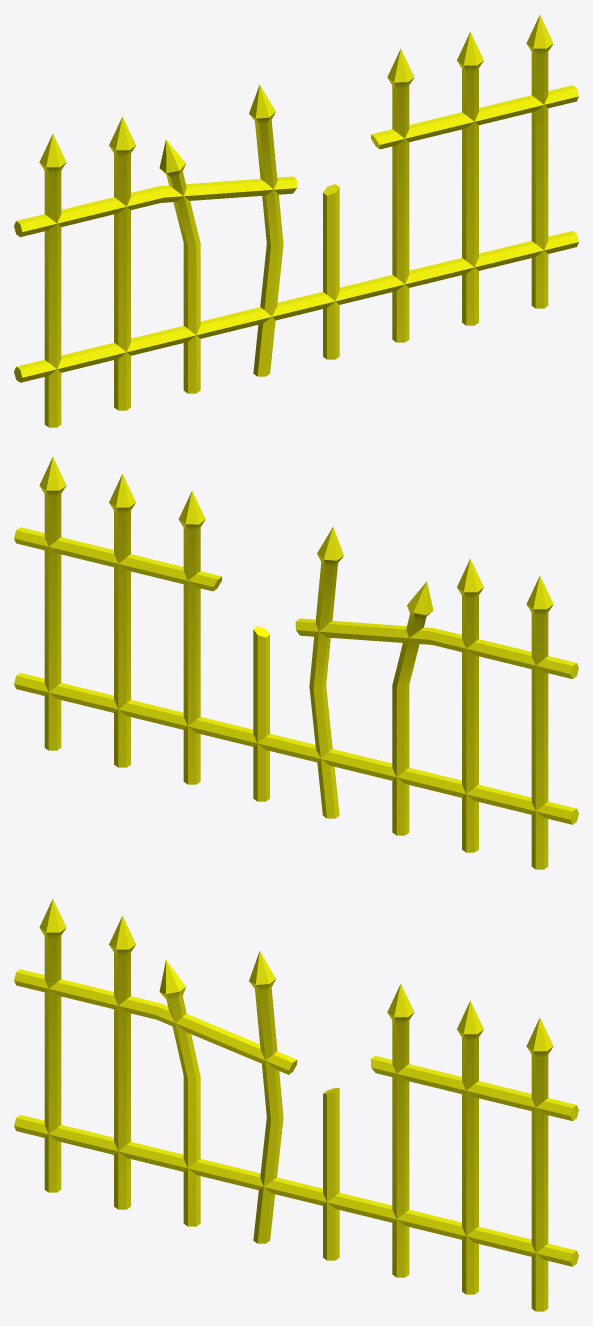
The model's file is kaykit-fence-seperate-broken.glb.
3 renders of one model, top to bottom at view 1: azimuth 30°, elevation 25°; view 2: azimuth 150°, elevation 25°; view 3: azimuth 330°, elevation 25°, orthographic.
Visible parts, largest first — view 1: fence_seperate_broken; view 2: fence_seperate_broken; view 3: fence_seperate_broken.
Boxes of the visible parts, <box> form: fence_seperate_broken: <box>14,15,578,427</box>; fence_seperate_broken: <box>14,457,578,869</box>; fence_seperate_broken: <box>14,899,578,1311</box>.
Size of the model in its own units: 4 by 2 by 0.1694.
